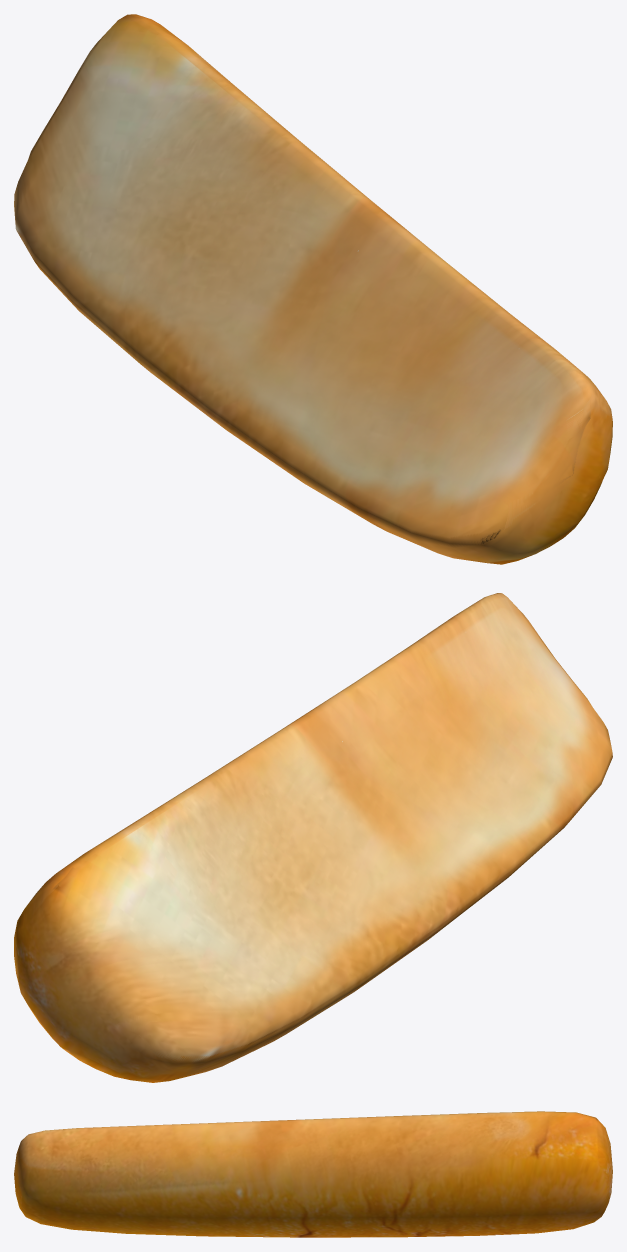
Rendered from Pan1.obj.
The picture shows the model from 3 angles, top to bottom: view 1: azimuth 30°, elevation 25°; view 2: azimuth 150°, elevation 25°; view 3: azimuth 270°, elevation 25°; orthographic projection. The views are drawn at different scales.
Visible parts, largest first — view 1: Pan1; view 2: Pan1; view 3: Pan1.
Part boxes in pixels (left/top/right/bottom): Pan1: left=14, top=14, right=612, bottom=564; Pan1: left=14, top=593, right=612, bottom=1082; Pan1: left=14, top=1111, right=612, bottom=1237.
Size of the model in its own units: 0.3556 by 0.3809 by 1.43.
